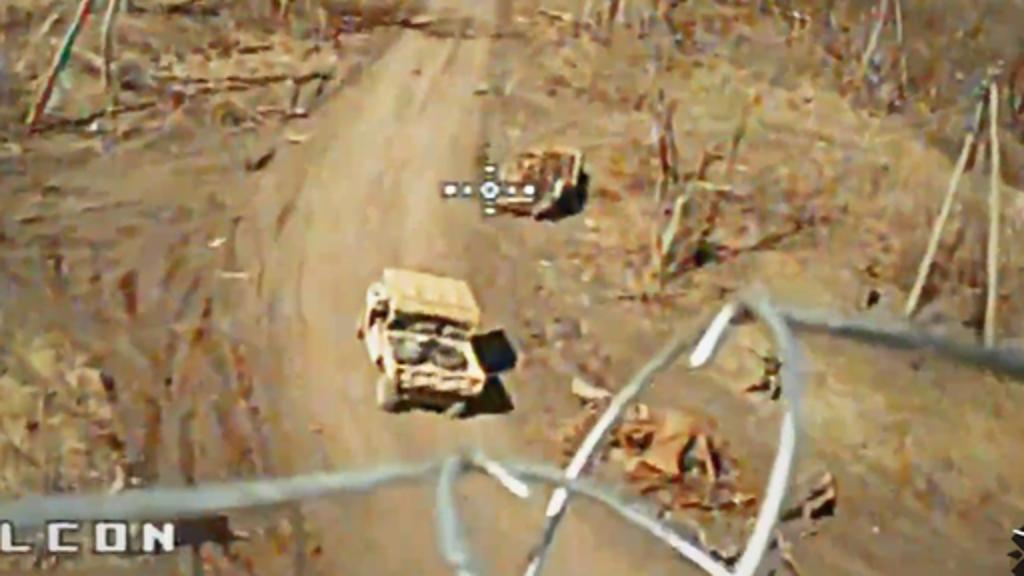CAR: (356, 258, 486, 420)
